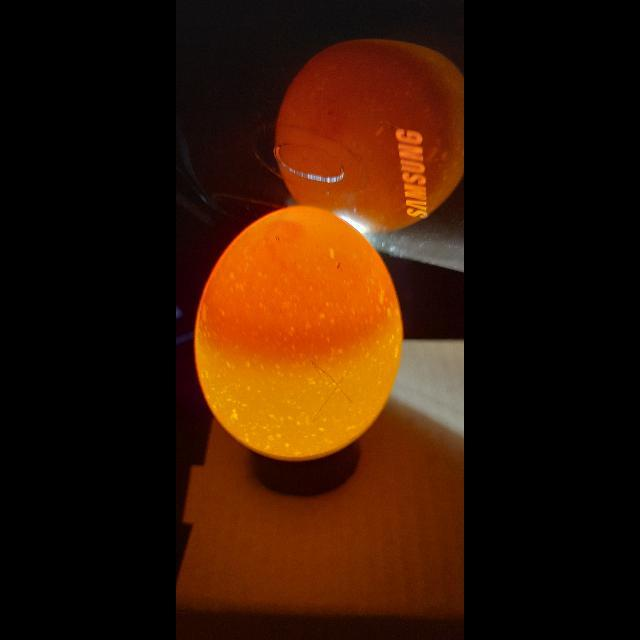Fertile: (192, 200, 398, 466)
